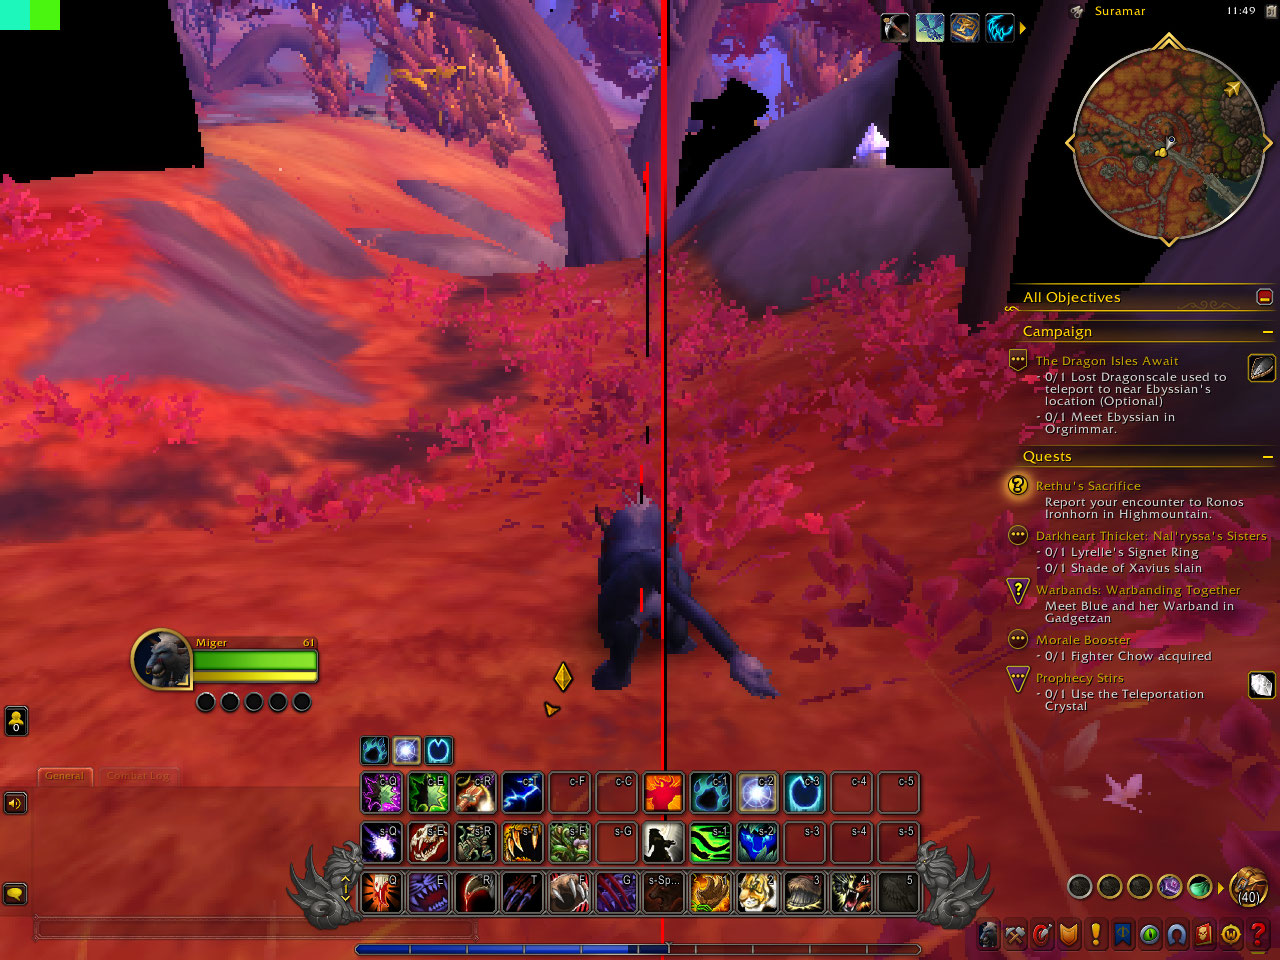ore: (848, 120, 894, 174)
